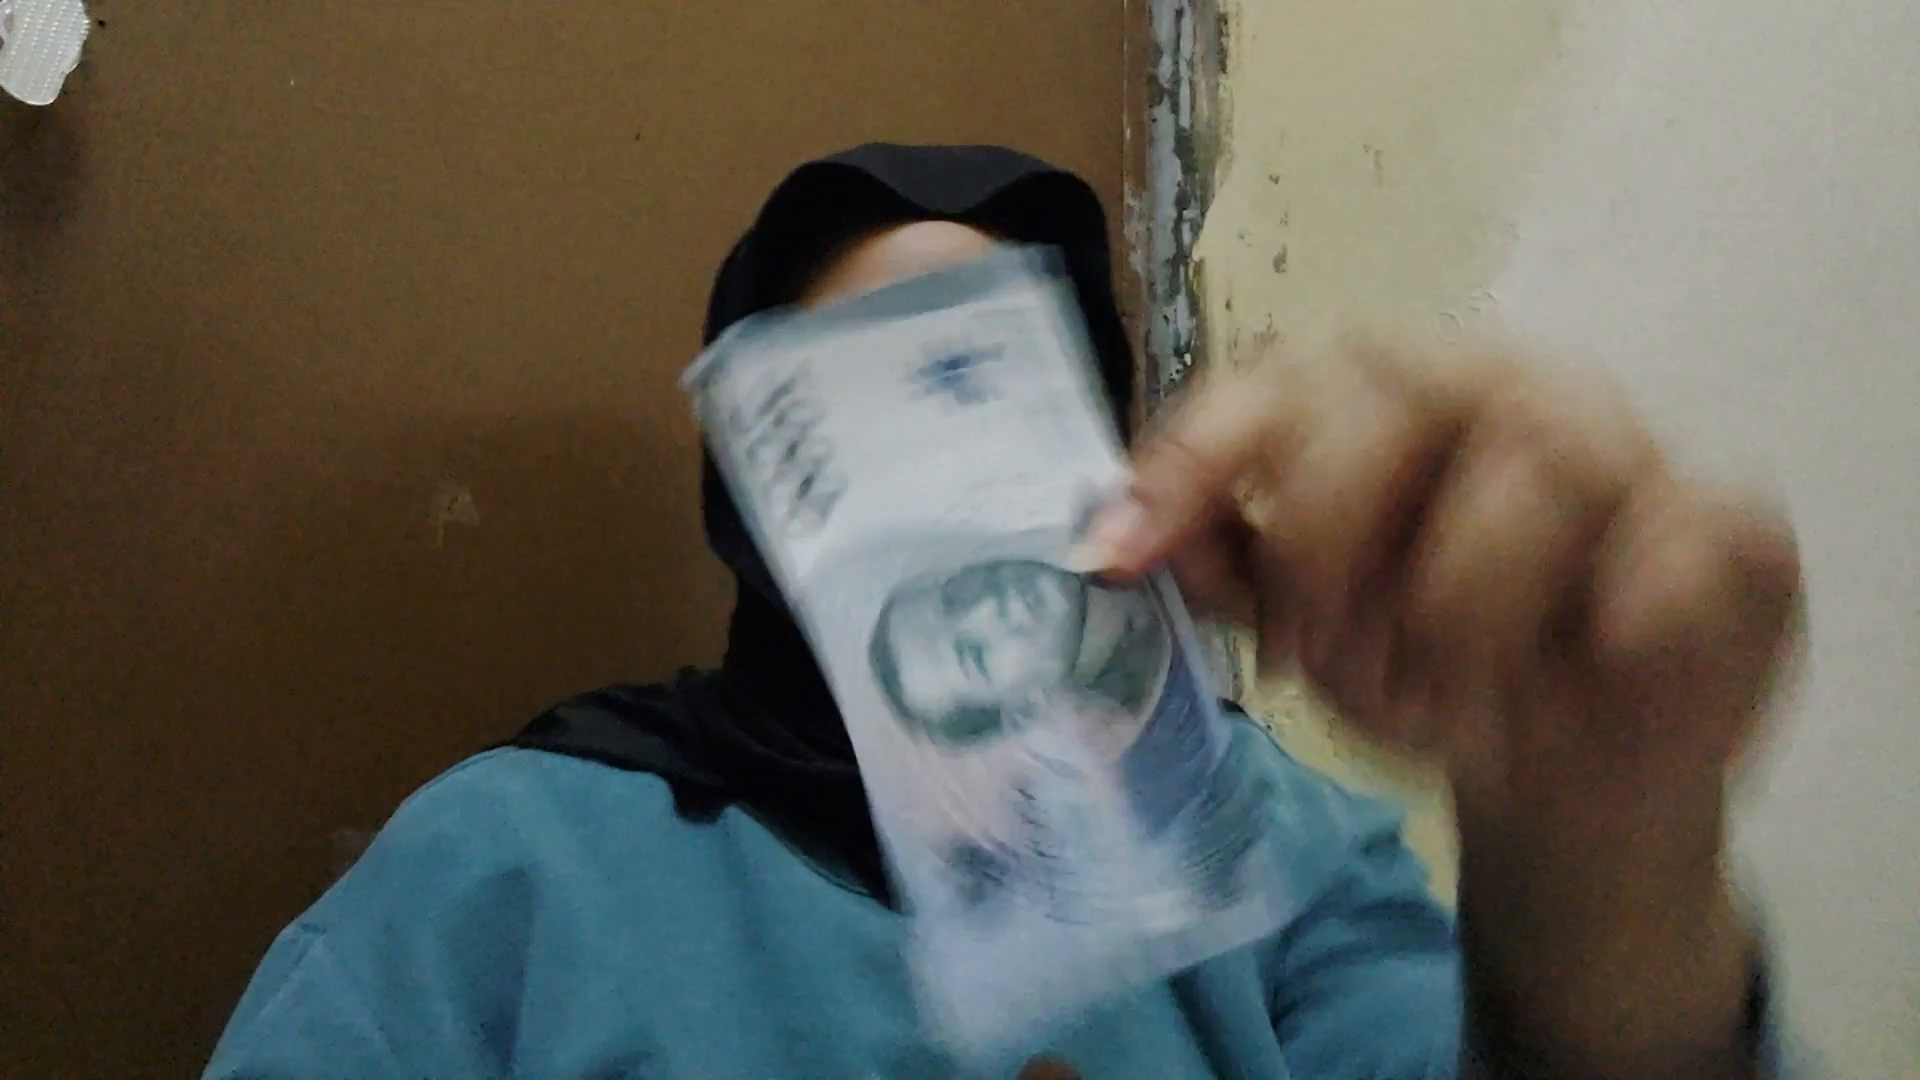2k: (696, 372, 1088, 1080)
